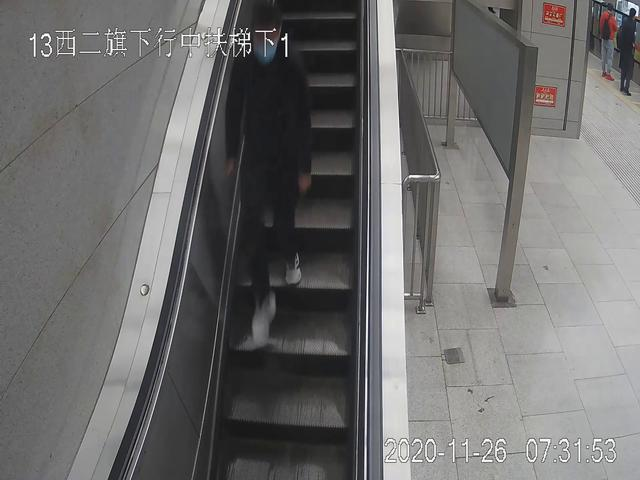person: (225, 10, 313, 350), (618, 8, 637, 95), (598, 4, 619, 79)
